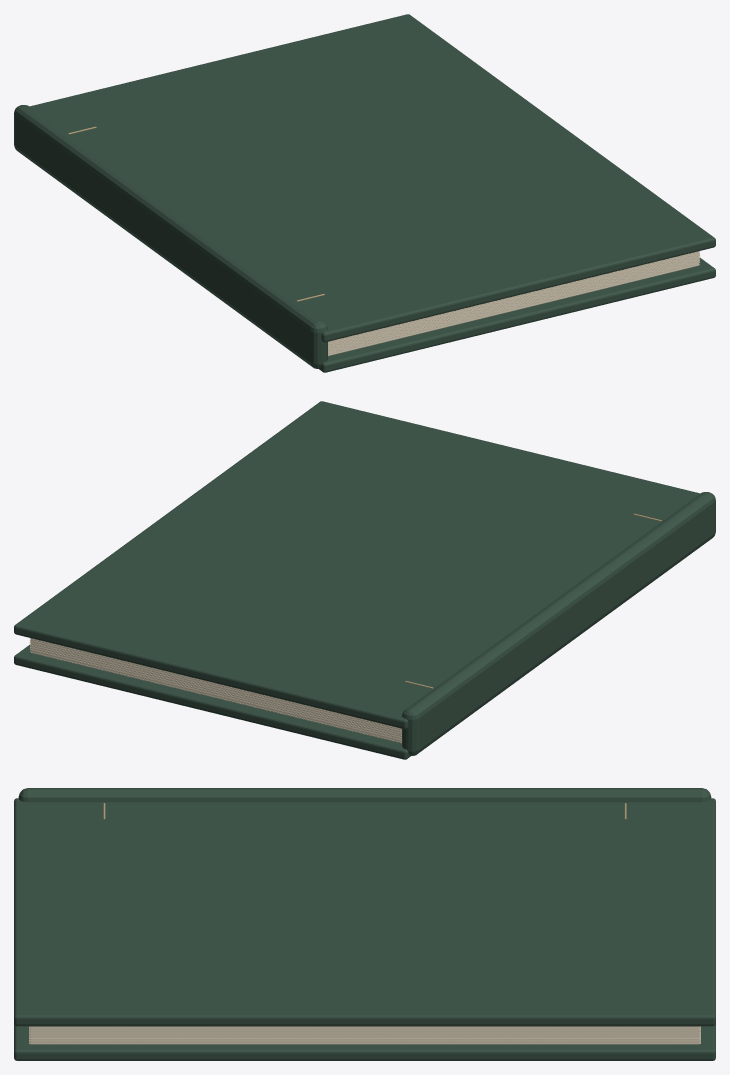
Rendered from scrapbook.glb.
The picture shows the model from 3 angles, top to bottom: view 1: azimuth 30°, elevation 25°; view 2: azimuth 150°, elevation 25°; view 3: azimuth 270°, elevation 25°; orthographic projection. The views are drawn at different scales.
Visible parts, largest first — view 1: Book_Front_Cover, Book_Spine, Book_Back_Cover, Book_Right_Block, Book_Left_Block; view 2: Book_Front_Cover, Book_Spine, Book_Back_Cover, Book_Right_Block, Book_Left_Block; view 3: Book_Front_Cover, Book_Back_Cover, Book_Right_Block, Book_Spine, Book_Left_Block, Book_Left_Edge_03, Book_Left_Edge_05, Book_Left_Edge_06, Book_Left_Edge_07, Book_Edge_Layer_00, Book_Edge_Layer_01, Book_Edge_Layer_03 (+7 smaller).
Part boxes in pixels (<box>): Book_Front_Cover: <box>29,14,715,342</box>; Book_Spine: <box>14,105,327,368</box>; Book_Back_Cover: <box>319,258,715,372</box>; Book_Right_Block: <box>328,252,699,356</box>; Book_Left_Block: <box>328,251,698,353</box>; Book_Front_Cover: <box>14,401,700,729</box>; Book_Spine: <box>402,492,715,755</box>; Book_Back_Cover: <box>14,645,410,759</box>; Book_Right_Block: <box>30,639,401,743</box>; Book_Left_Block: <box>31,639,401,741</box>; Book_Front_Cover: <box>14,798,715,1026</box>; Book_Back_Cover: <box>14,1024,715,1060</box>; Book_Right_Block: <box>29,1026,700,1044</box>; Book_Spine: <box>18,788,711,802</box>; Book_Left_Block: <box>29,1026,700,1042</box>; Book_Left_Edge_03: <box>29,1029,700,1030</box>; Book_Left_Edge_05: <box>29,1034,700,1035</box>; Book_Left_Edge_06: <box>29,1036,700,1037</box>; Book_Left_Edge_07: <box>29,1039,700,1040</box>; Book_Edge_Layer_00: <box>29,1042,700,1043</box>; Book_Edge_Layer_01: <box>29,1040,700,1041</box>; Book_Edge_Layer_03: <box>29,1035,700,1036</box>.
Size of the model in its own units: 0.344 by 0.039 by 0.458.
